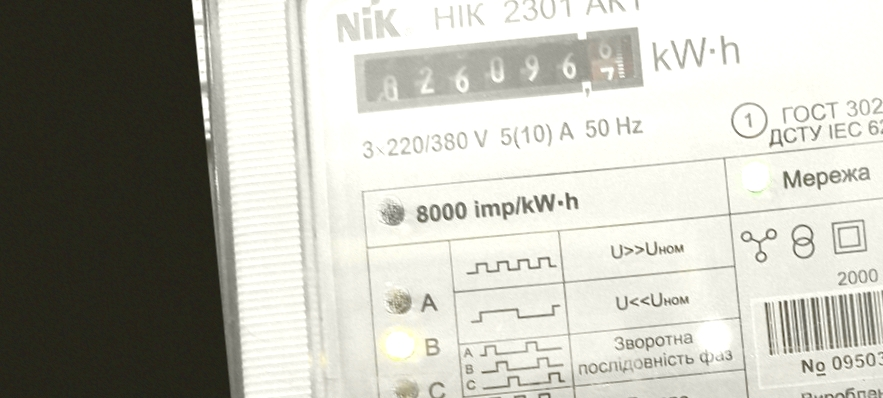0: (483, 51, 507, 88), (377, 70, 400, 104)
2: (412, 62, 437, 99)
6: (449, 61, 472, 98), (556, 47, 578, 82), (592, 34, 614, 62)
7: (596, 63, 616, 85)
9: (520, 51, 542, 85)
screen: (340, 16, 652, 127)
